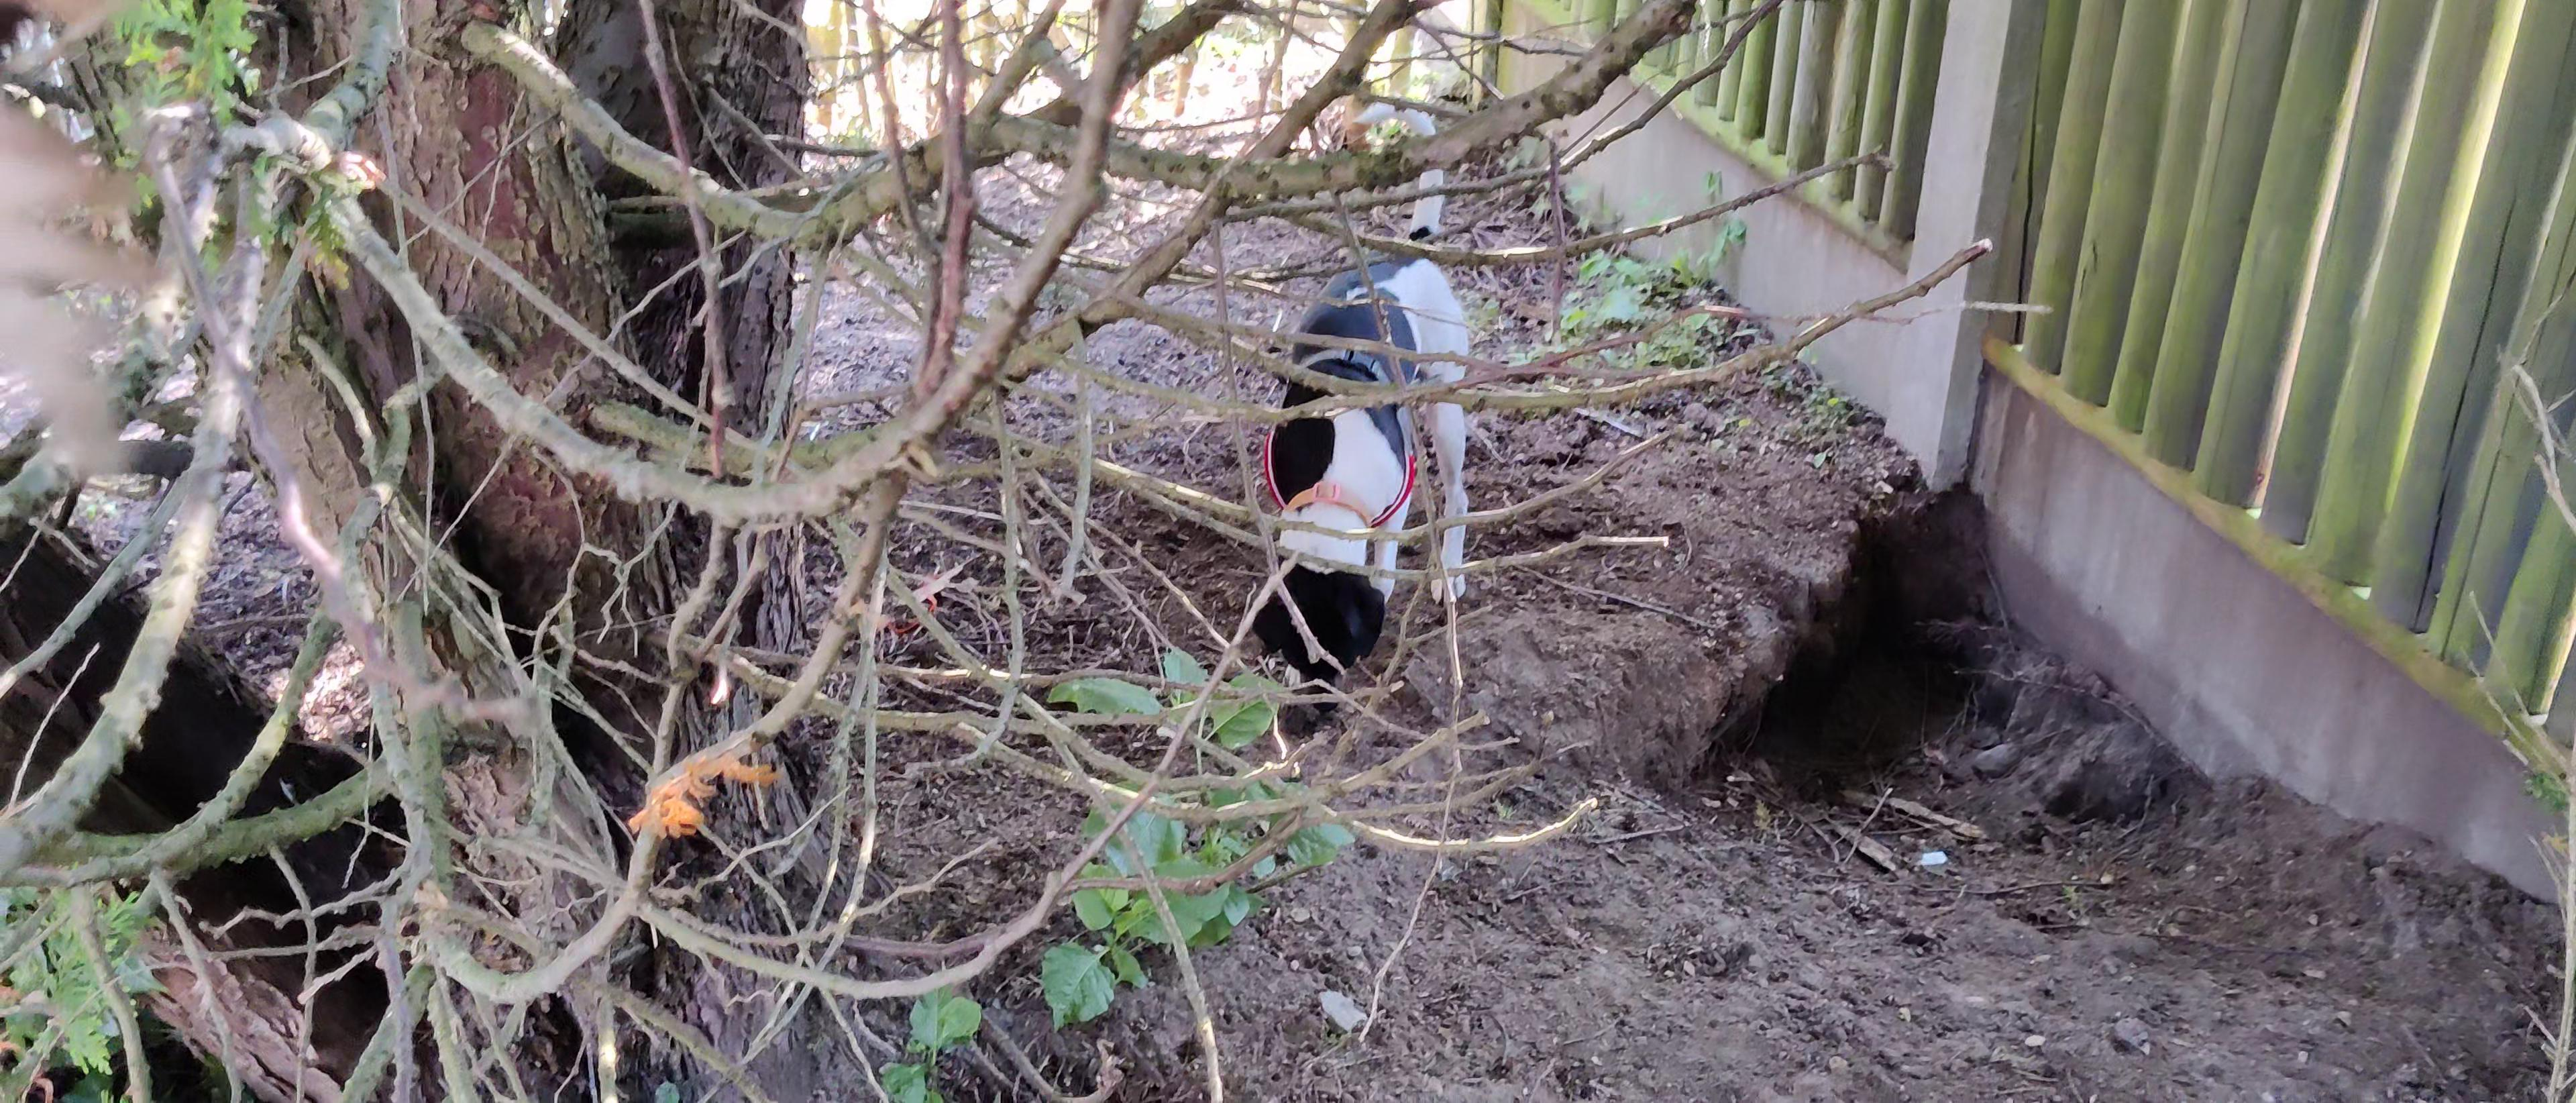Dog: (1221, 85, 1475, 735)
